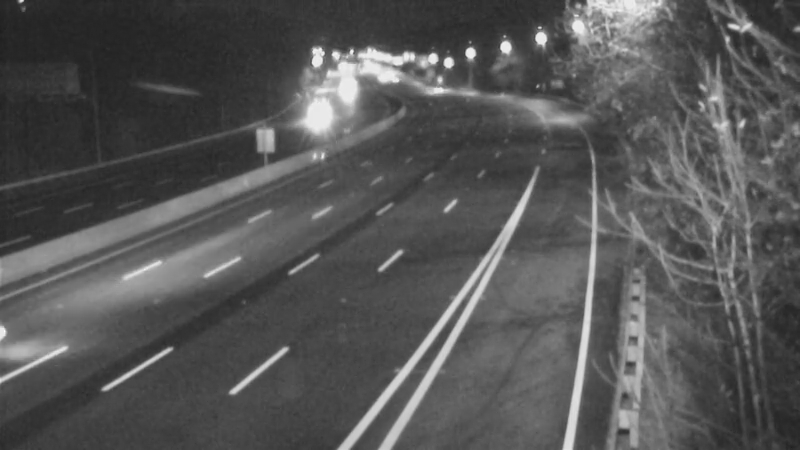vehicle: (409, 64, 459, 114), (294, 92, 344, 142), (325, 68, 375, 118)
